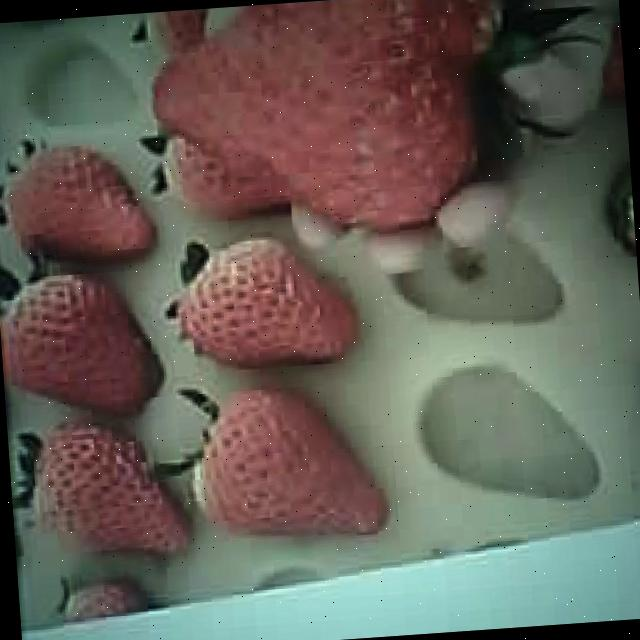strawberry: (150, 0, 501, 236), (194, 385, 371, 547), (175, 237, 350, 372), (0, 270, 150, 416), (30, 422, 188, 560), (5, 142, 154, 264)
